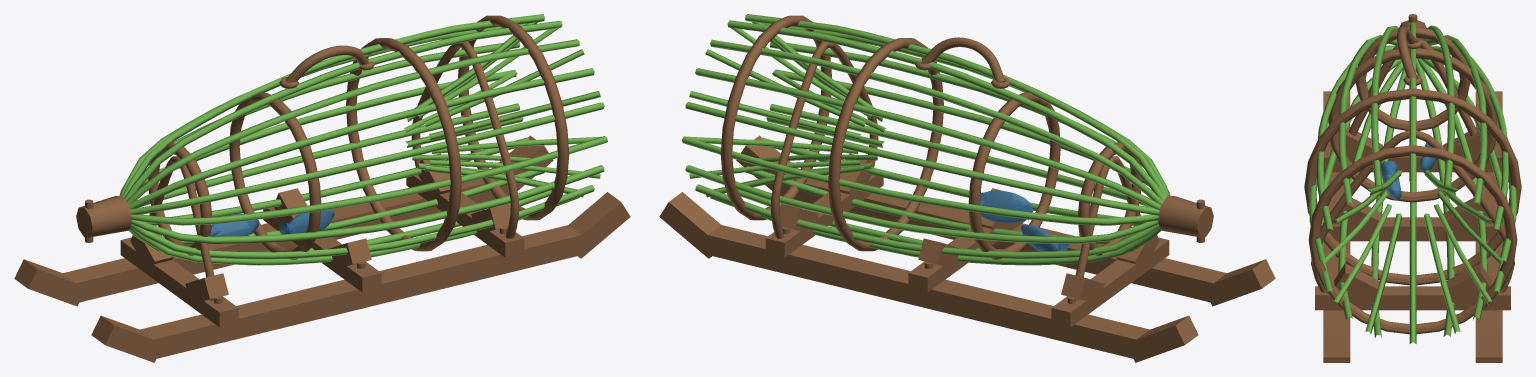
File: fish-trap.glb
3 views of the same model, side by side, from view 1: azimuth 30°, elevation 25°; view 2: azimuth 150°, elevation 25°; view 3: azimuth 270°, elevation 25° (orthographic).
Visible parts, largest first — view 1: Mesh_RightRunner, Mesh_LeftRunner, Mesh_Hoop_1, Mesh_Stave_2, Mesh_Stave_4, Mesh_Stave_3, Mesh_Stave_5, Mesh_Stave_1, Mesh_Hoop_0, Mesh_Stave0, Mesh_Stave_6, Mesh_Stave_15 (+37 smaller); view 2: Mesh_LeftRunner, Mesh_RightRunner, Mesh_Hoop_1, Mesh_Stave_14, Mesh_Stave_12, Mesh_Stave_13, Mesh_Stave_11, Mesh_Stave_15, Mesh_Hoop_0, Mesh_Stave0, Mesh_Stave_1, Mesh_Stave_10 (+36 smaller); view 3: Mesh_Hoop_0, Mesh_Hoop_1, Mesh_CrossPlank_0, Mesh_Lashing_0, Mesh_Lashing_1, Mesh_CrossPlank_1, Mesh_FrontRope, Mesh_Hoop_2, Mesh_Lashing_2, Mesh_LeftRunner, Mesh_RightRunner, Mesh_Hoop_3 (+41 smaller).
Boxes of the visible parts, x1,y1,x2,y2 form: Mesh_RightRunner: [140, 225, 582, 359]; Mesh_LeftRunner: [63, 178, 505, 302]; Mesh_Hoop_1: [346, 38, 460, 251]; Mesh_Stave_2: [129, 68, 594, 209]; Mesh_Stave_4: [131, 136, 607, 225]; Mesh_Stave_3: [130, 102, 604, 214]; Mesh_Stave_5: [131, 165, 604, 243]; Mesh_Stave_1: [126, 39, 579, 204]; Mesh_Hoop_0: [458, 15, 568, 220]; Mesh_Stave0: [124, 21, 562, 200]; Mesh_Stave_6: [130, 185, 594, 259]; Mesh_Stave_15: [122, 14, 544, 197]; Mesh_LeftRunner: [707, 225, 1149, 359]; Mesh_RightRunner: [784, 168, 1226, 302]; Mesh_Hoop_1: [829, 38, 943, 251]; Mesh_Stave_14: [695, 68, 1160, 210]; Mesh_Stave_12: [682, 136, 1158, 225]; Mesh_Stave_13: [685, 102, 1159, 215]; Mesh_Stave_11: [685, 165, 1158, 244]; Mesh_Stave_15: [710, 39, 1163, 204]; Mesh_Hoop_0: [721, 15, 831, 220]; Mesh_Stave0: [727, 20, 1165, 201]; Mesh_Stave_1: [745, 14, 1167, 197]; Mesh_Stave_10: [695, 184, 1159, 258]; Mesh_Hoop_0: [1308, 145, 1517, 334]; Mesh_Hoop_1: [1304, 88, 1521, 285]; Mesh_CrossPlank_0: [1315, 286, 1510, 310]; Mesh_Lashing_0: [1309, 147, 1516, 333]; Mesh_Lashing_1: [1305, 90, 1520, 285]; Mesh_CrossPlank_1: [1328, 217, 1497, 241]; Mesh_FrontRope: [1311, 130, 1514, 292]; Mesh_Hoop_2: [1328, 48, 1497, 202]; Mesh_Lashing_2: [1329, 50, 1496, 202]; Mesh_LeftRunner: [1475, 141, 1502, 335]; Mesh_RightRunner: [1323, 141, 1350, 335]; Mesh_Hoop_3: [1355, 27, 1470, 130].
Size of the model in its own units: 1.1 by 0.4683 by 0.4.
